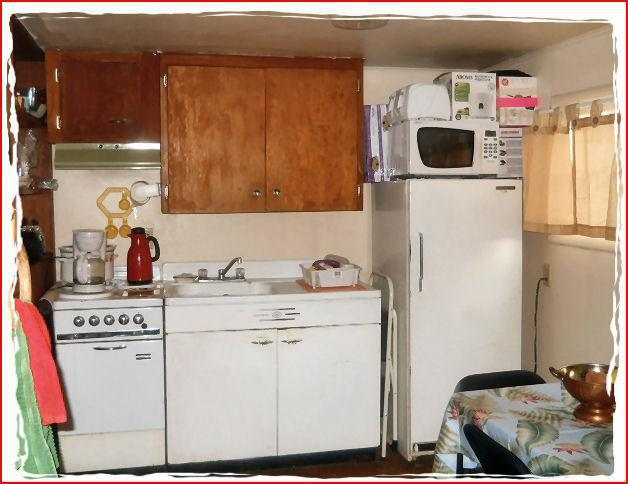Lavaplatos: (170, 252, 273, 296)
